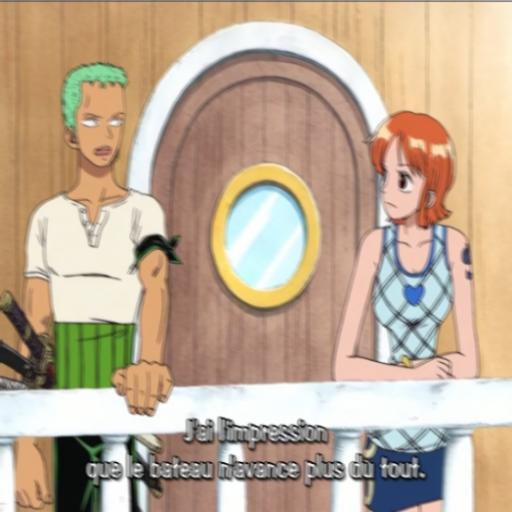Nami: (332, 100, 483, 512)
Zoro: (10, 65, 192, 512)
